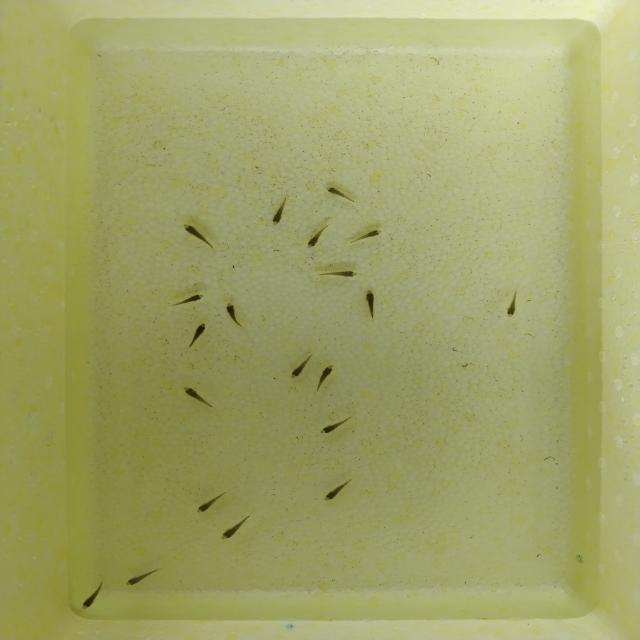fingerling: (264, 193, 298, 225), (174, 221, 216, 245), (323, 180, 353, 204), (178, 287, 210, 308), (219, 301, 247, 325), (180, 384, 211, 405), (285, 357, 312, 381), (305, 226, 328, 253), (352, 225, 386, 243), (500, 294, 525, 318), (316, 270, 376, 280), (122, 570, 162, 585), (361, 288, 382, 316), (80, 586, 102, 611), (321, 482, 350, 500), (190, 319, 207, 349), (192, 498, 220, 516), (221, 521, 245, 541), (317, 361, 336, 386), (319, 422, 343, 436)
